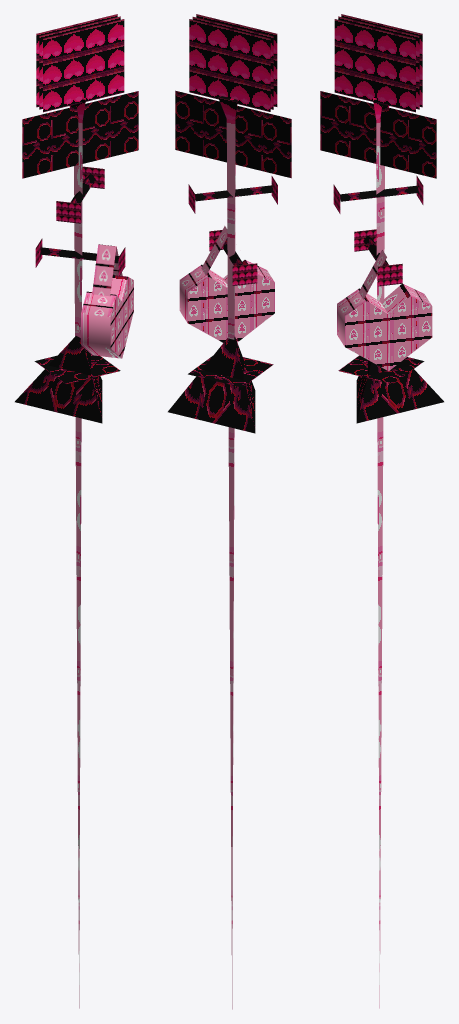
File: 3827kg3_ser08.gltf
3 renders of one model, left to right at view 1: azimuth 30°, elevation 25°; view 2: azimuth 150°, elevation 25°; view 3: azimuth 330°, elevation 25°, orthographic.
Parts seen in each view (by area): view 1: 3827kg3_ser08; view 2: 3827kg3_ser08; view 3: 3827kg3_ser08.
Boxes of the visible parts, box(x1,y1,x2,y2) form: 3827kg3_ser08: box(15, 14, 138, 1008); 3827kg3_ser08: box(168, 14, 291, 1009); 3827kg3_ser08: box(320, 14, 443, 1008).
Bounding box in the file's own units: 0.6387 × 5.16 × 0.5129.
Materials: 3 (3 with a texture image).
